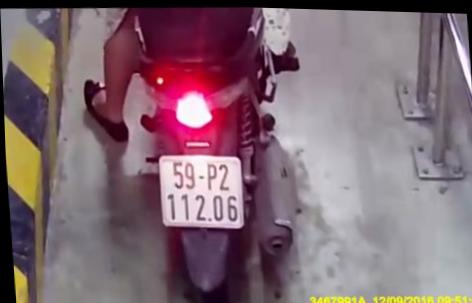LP: (155, 150, 246, 233)
